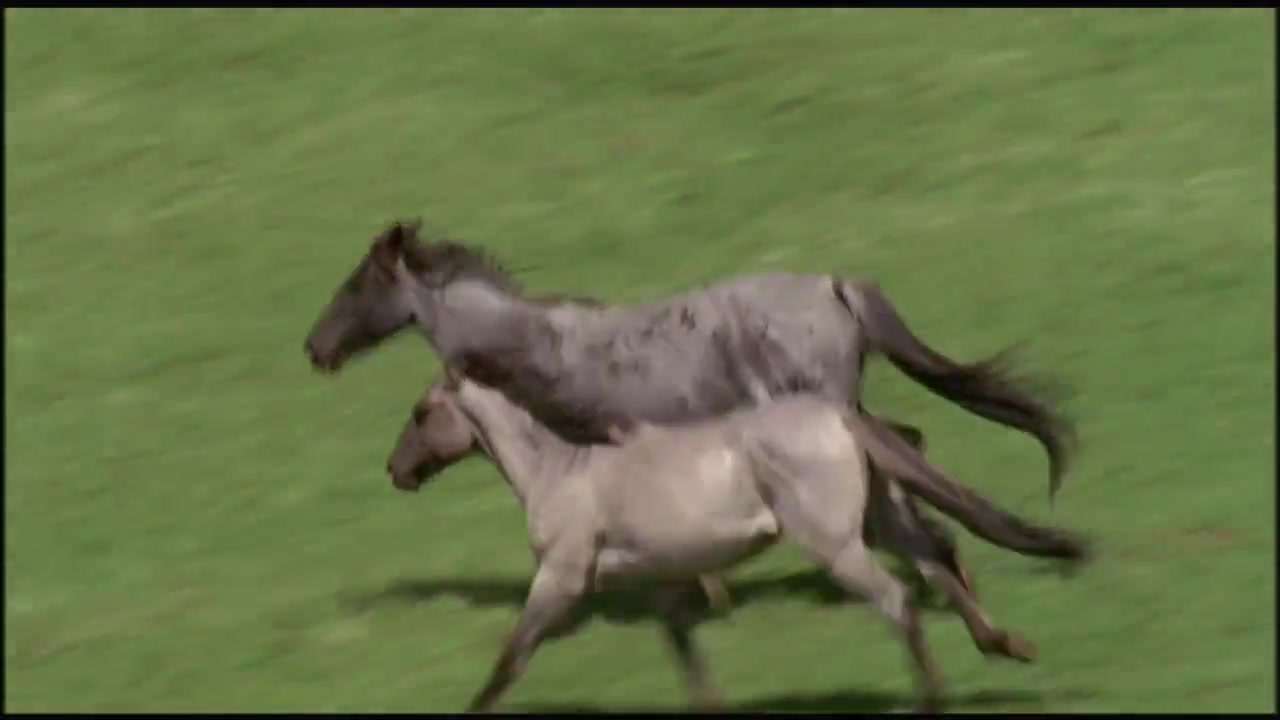horse: (385, 351, 1096, 712)
